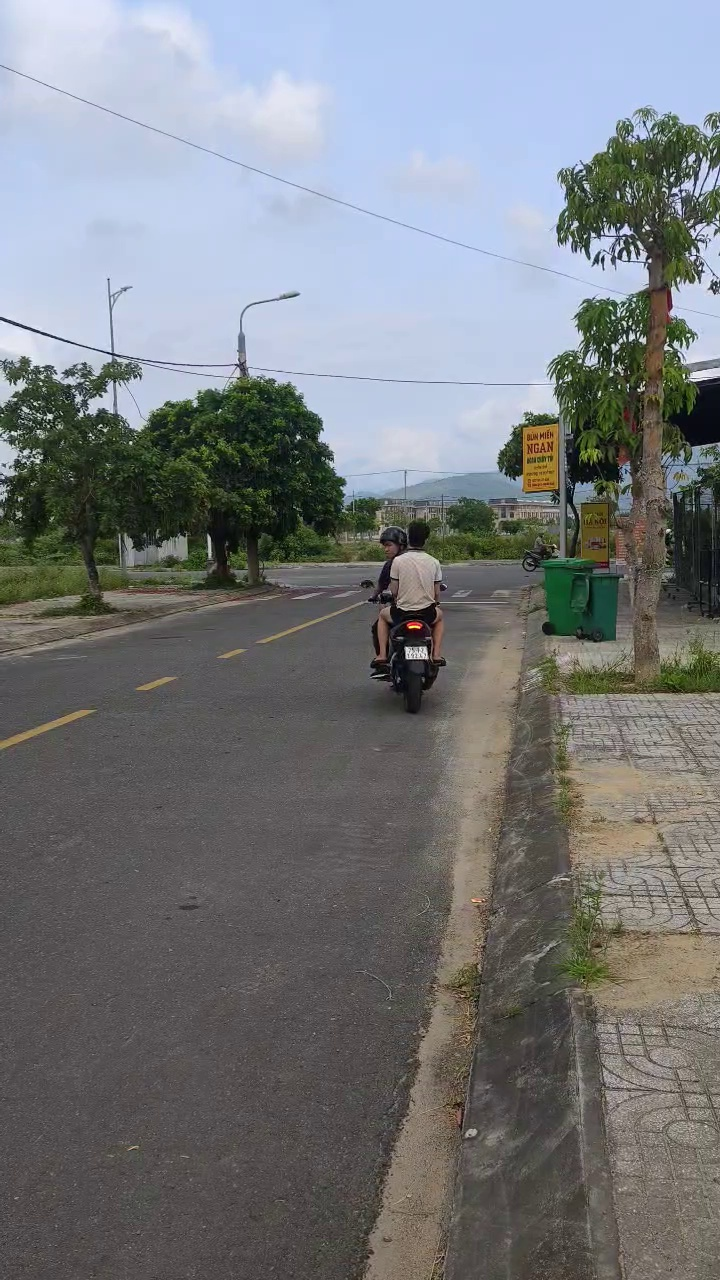helmet: (406, 520, 430, 564)
no_helmet: (378, 530, 406, 564)
